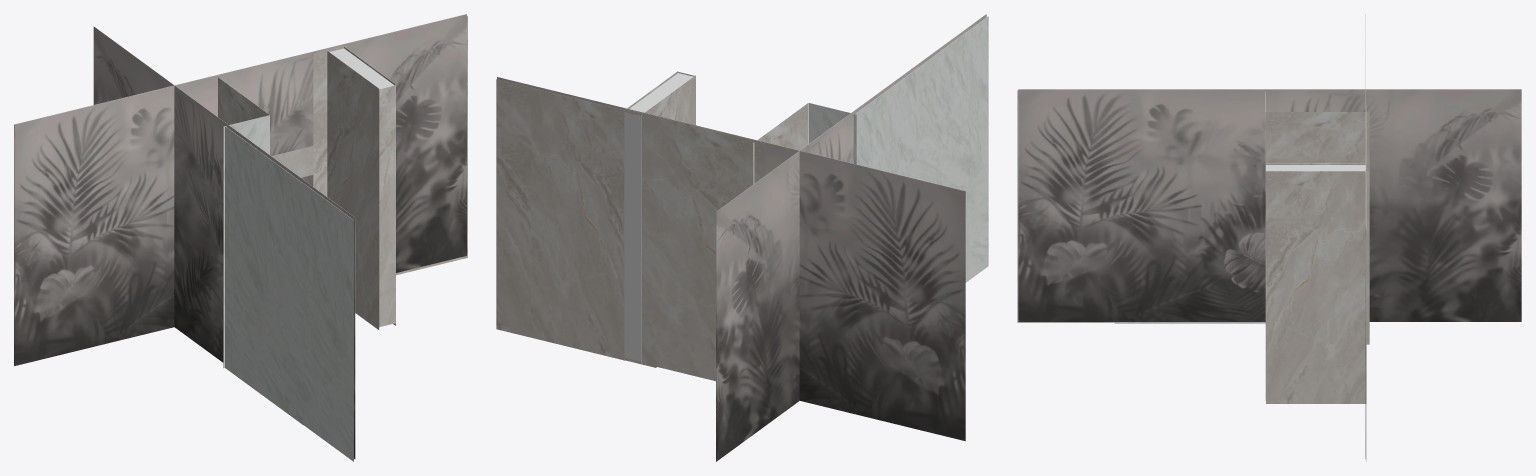
The model's file is VIPANELS_compressed.glb.
The picture shows the model from 3 angles, left to right: view 1: azimuth 30°, elevation 25°; view 2: azimuth 150°, elevation 25°; view 3: azimuth 270°, elevation 25°; orthographic projection. The views are drawn at different scales.
Visible parts, largest first — view 1: tryptich.001, vipanel 1500x2550x3.004, tryptich, vipanel 1500x2550x3.002, vipanel 1500x2550x3.013, vipanel 1500x2550x3.014, vipanel 1500x2550x3.016, vipanel 1500x2550x3.005, vipanel 1500x2550x3.001, Niche, vipanel 1500x2550x3.008.1; view 2: tryptich.001, vipanel 1500x2550x3.011, tryptich, vipanel 1500x2550x3.008.1, vipanel 1500x2550x3.002, vipanel 1500x2550x3.010, vipanel 1500x2550x3.004, Niche, vipanel 1500x2550x3.013, vipanel 1500x2550x3.001, vipanel 1500x2550x3.005; view 3: tryptich, vipanel 1500x2550x3.012, vipanel 1500x2550x3.001, Niche, vipanel 1500x2550x3.002.
Part boxes in pixels (box(x1,y1,x2,y2)): tryptich.001: box(14, 14, 466, 366); vipanel 1500x2550x3.004: box(225, 126, 303, 425); tryptich: box(93, 26, 355, 458); vipanel 1500x2550x3.002: box(303, 183, 353, 461); vipanel 1500x2550x3.013: box(327, 51, 379, 329); vipanel 1500x2550x3.014: box(379, 85, 395, 326); vipanel 1500x2550x3.016: box(313, 46, 346, 196); vipanel 1500x2550x3.005: box(223, 115, 269, 368); vipanel 1500x2550x3.001: box(218, 77, 269, 124); Niche: box(330, 48, 395, 327); vipanel 1500x2550x3.008.1: box(271, 146, 313, 177); tryptich.001: box(497, 77, 965, 441); vipanel 1500x2550x3.011: box(531, 87, 624, 360); tryptich: box(716, 14, 986, 461); vipanel 1500x2550x3.008.1: box(624, 109, 765, 380); vipanel 1500x2550x3.002: box(936, 16, 988, 282); vipanel 1500x2550x3.010: box(496, 79, 530, 337); vipanel 1500x2550x3.004: box(855, 55, 936, 183); Niche: box(624, 73, 692, 361); vipanel 1500x2550x3.013: box(641, 75, 695, 364); vipanel 1500x2550x3.001: box(752, 103, 808, 184); vipanel 1500x2550x3.005: box(808, 103, 856, 164); tryptich: box(1018, 89, 1521, 321); vipanel 1500x2550x3.012: box(1266, 171, 1366, 403); vipanel 1500x2550x3.001: box(1266, 112, 1369, 344); Niche: box(1265, 165, 1365, 400); vipanel 1500x2550x3.002: box(1017, 90, 1114, 322).
Bounding box in the file's own units: 5.01 × 2.57 × 5.01.
Materials: 4 (4 with a texture image).
